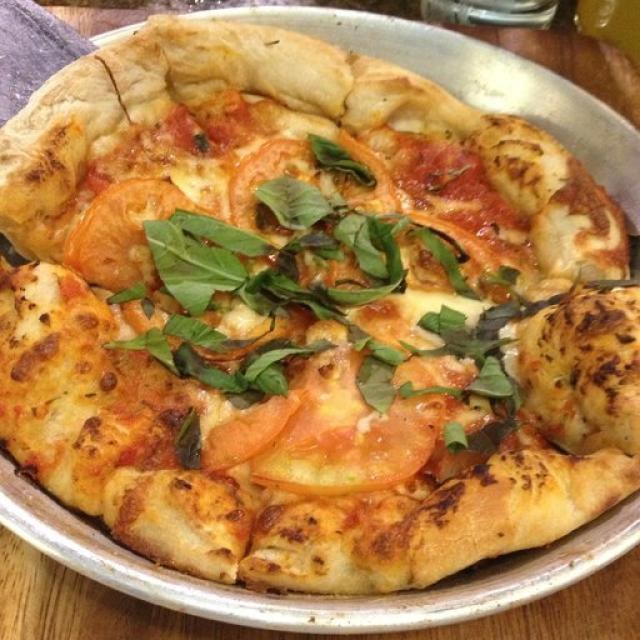Basil: (108, 314, 288, 388), (140, 219, 278, 293), (424, 299, 520, 399), (304, 208, 405, 277), (264, 276, 381, 330), (254, 170, 335, 233), (300, 132, 378, 190), (348, 328, 399, 404)
Pizza: (0, 16, 640, 598)
Tomato: (205, 404, 435, 488), (66, 169, 155, 281)
